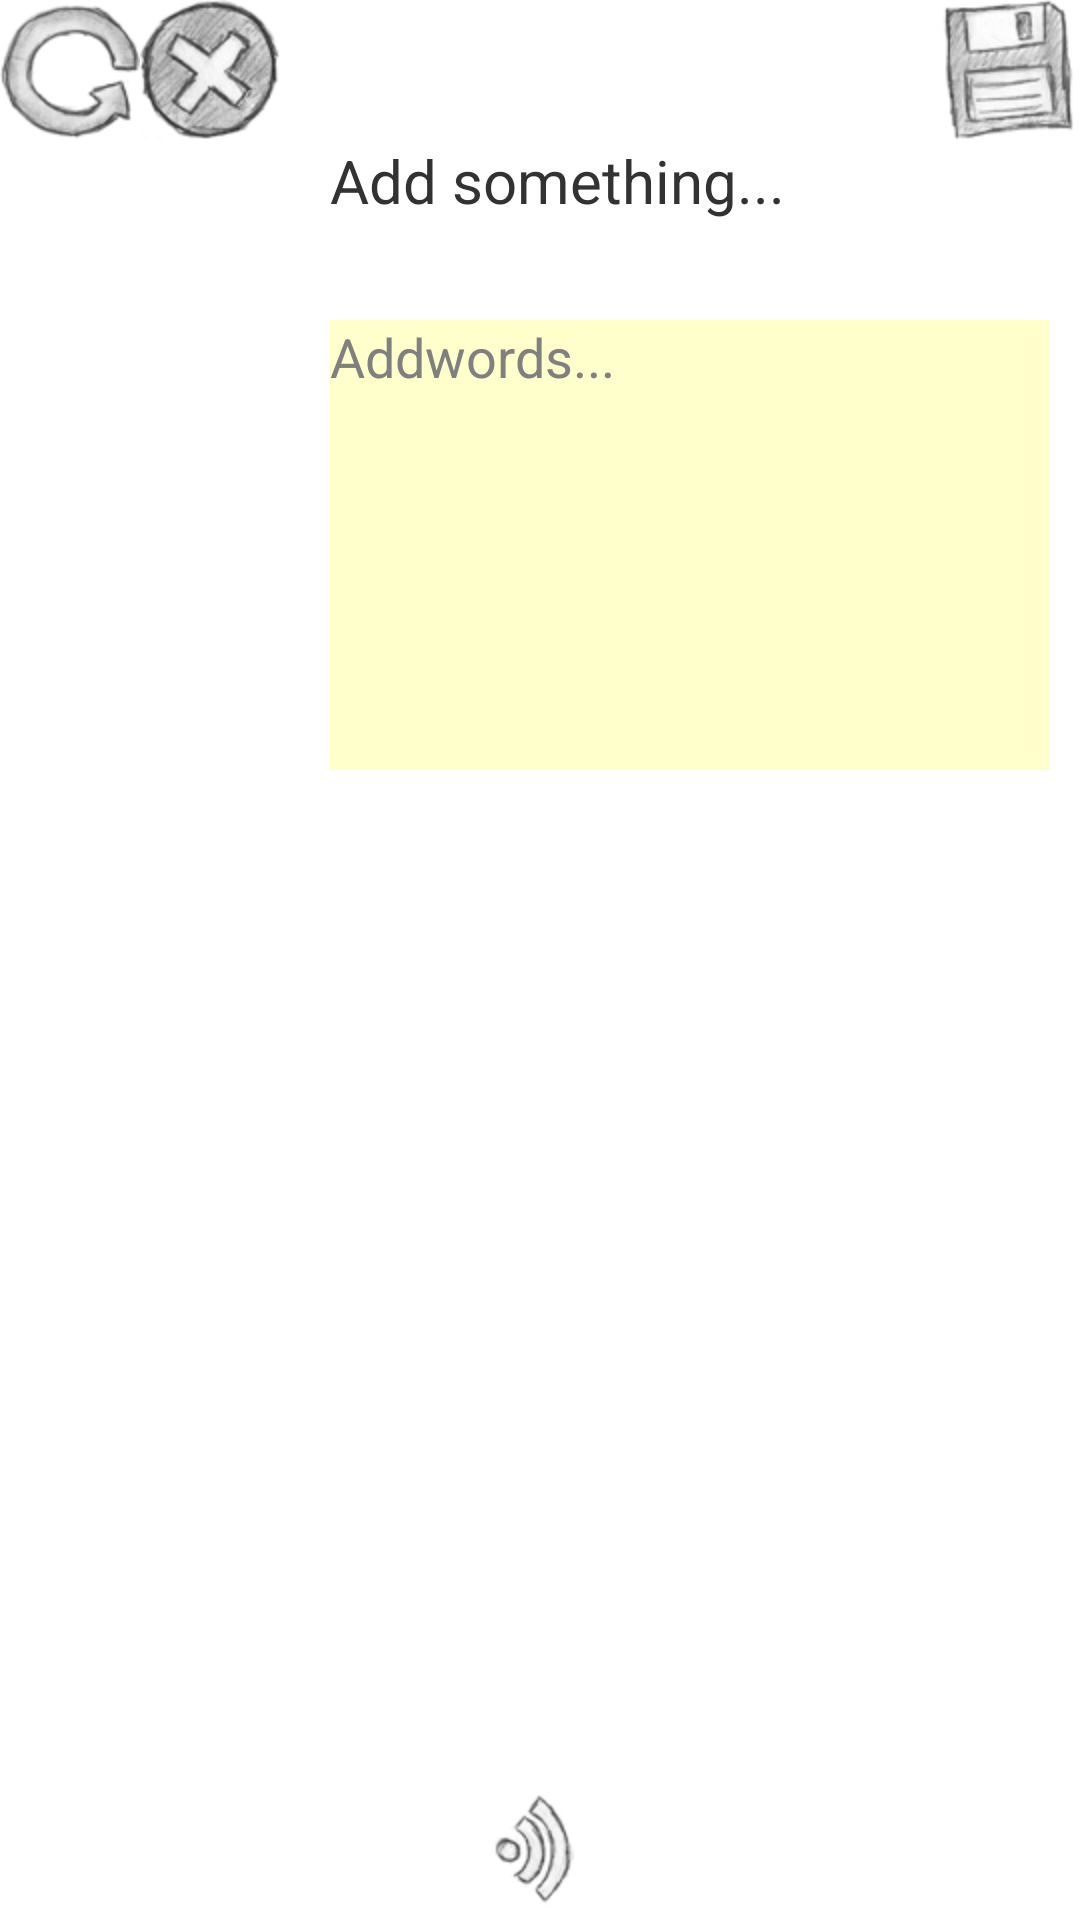

Named icons in this screenshot (1080*1920) and their centers, point (x, y):
delete: point (209, 70)
finishi: point (1009, 70)
replay: point (70, 72)
startrecord: point (534, 1849)
